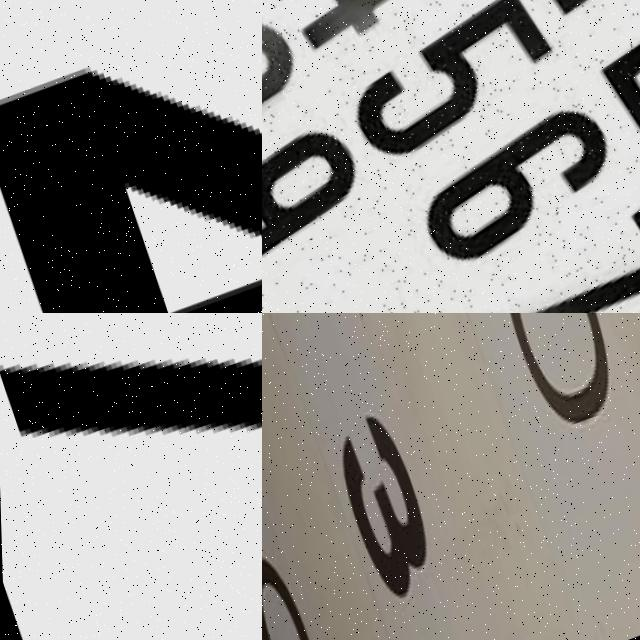0: (466, 313, 640, 464)
2: (575, 0, 640, 152)
3: (301, 372, 455, 634)
4: (262, 0, 517, 73)
5: (320, 0, 578, 183)
6: (388, 86, 640, 292)
7: (459, 189, 640, 313)
8: (262, 0, 328, 182)
9: (262, 103, 388, 296), (262, 522, 341, 640)
F: (0, 313, 262, 640)
